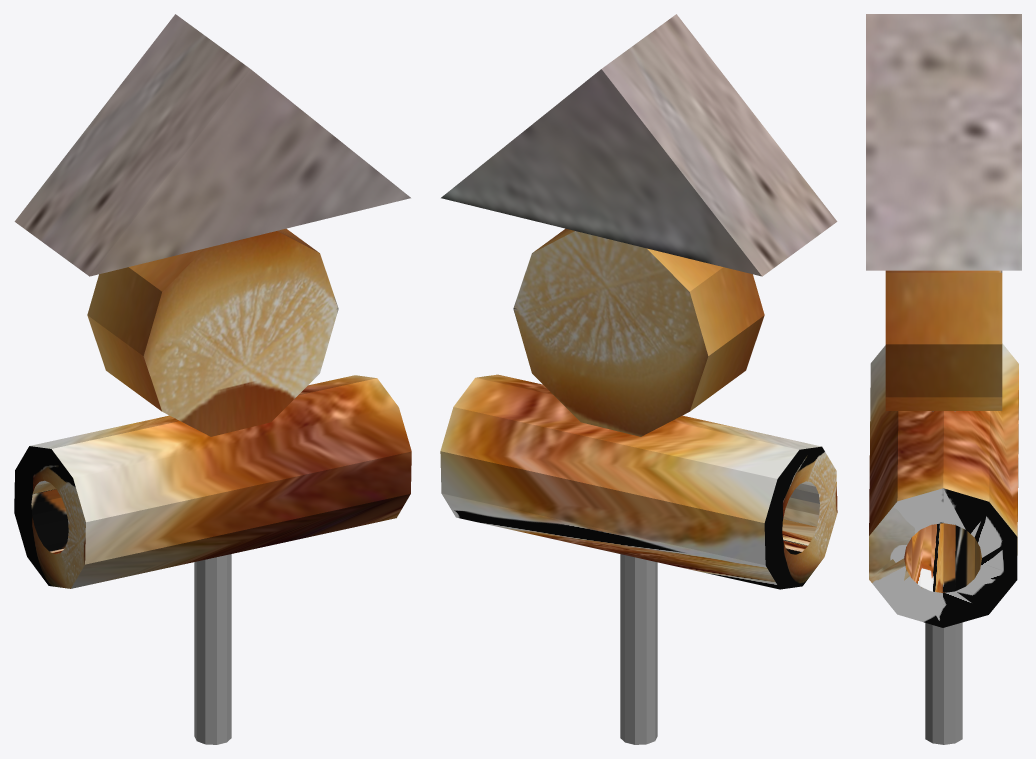
Rendered from oden.fbx.
3 views of the same model, side by side, from view 1: azimuth 30°, elevation 25°; view 2: azimuth 150°, elevation 25°; view 3: azimuth 270°, elevation 25° (orthographic). The views are drawn at different scales.
Parts seen in each view (by area): view 1: polySurface2; view 2: polySurface2; view 3: polySurface2.
Part boxes in pixels (box(x1,y1,x2,y2)): polySurface2: box(14, 14, 411, 744); polySurface2: box(440, 14, 837, 744); polySurface2: box(866, 14, 1021, 744).
Size of the model in its own units: 1.01 by 2.04 by 0.4.
3 materials, 2 textured.
